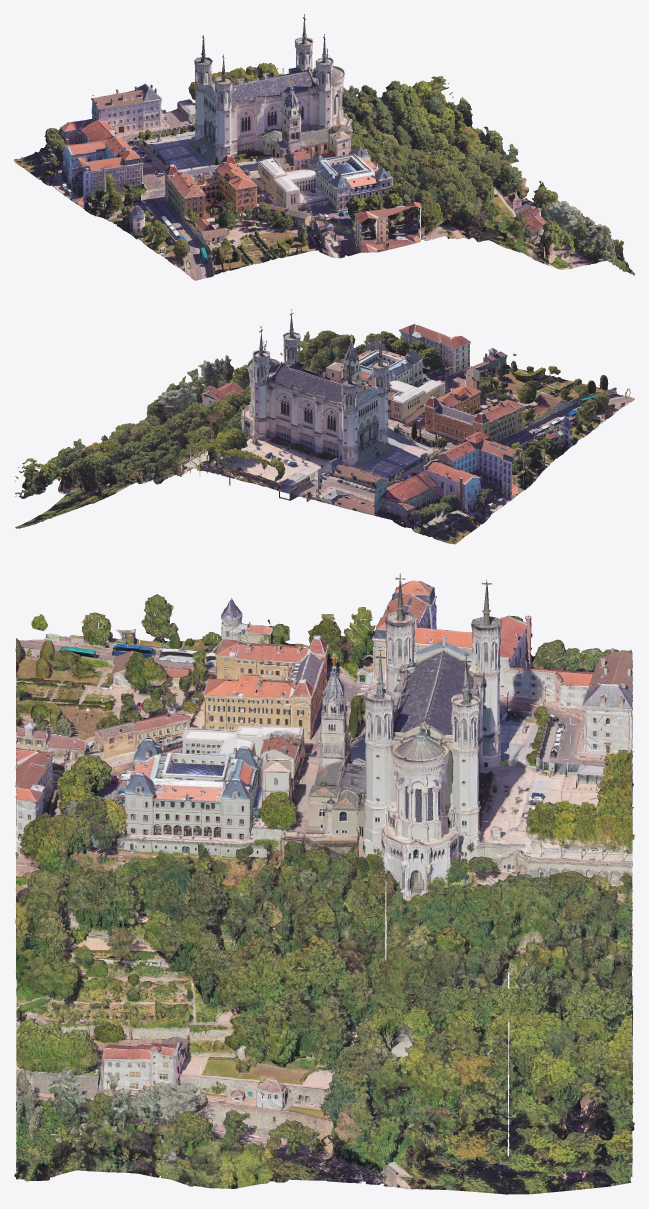
File: fourviere.glb
3 views of the same model, one above another, from view 1: azimuth 30°, elevation 25°; view 2: azimuth 150°, elevation 25°; view 3: azimuth 270°, elevation 25° (orthographic). The views are drawn at different scales.
Visible parts, largest first — view 1: Google 3D Tiles; view 2: Google 3D Tiles; view 3: Google 3D Tiles.
Part boxes in pixels (x1,y1,x2,y2): Google 3D Tiles: (14,14,634,280); Google 3D Tiles: (15,309,634,544); Google 3D Tiles: (14,573,634,1194).
Bounding box in the file's own units: 267 × 129 × 192.
78 materials, 78 textured.
